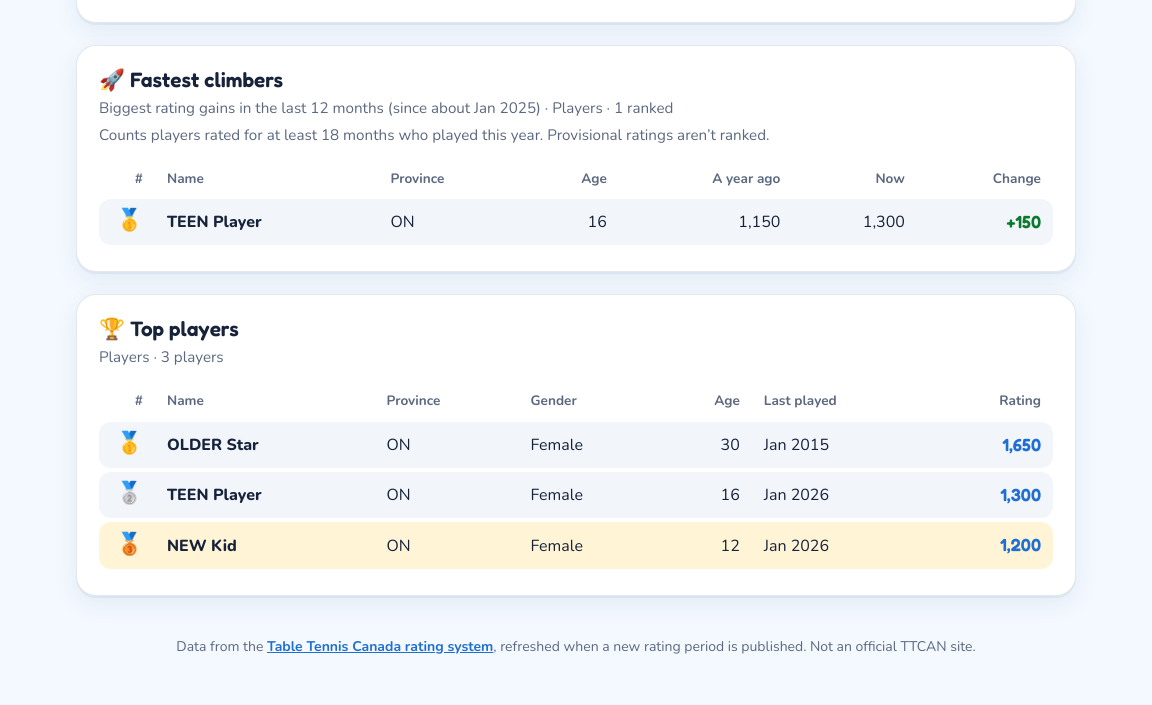
it: app › shows players who grew like you and how they kept going
(page scrolled)
// older players don't get the section
Click the button "TEEN Player" below "Top players": (214, 495) [167,483,262,507]
(page scrolled)
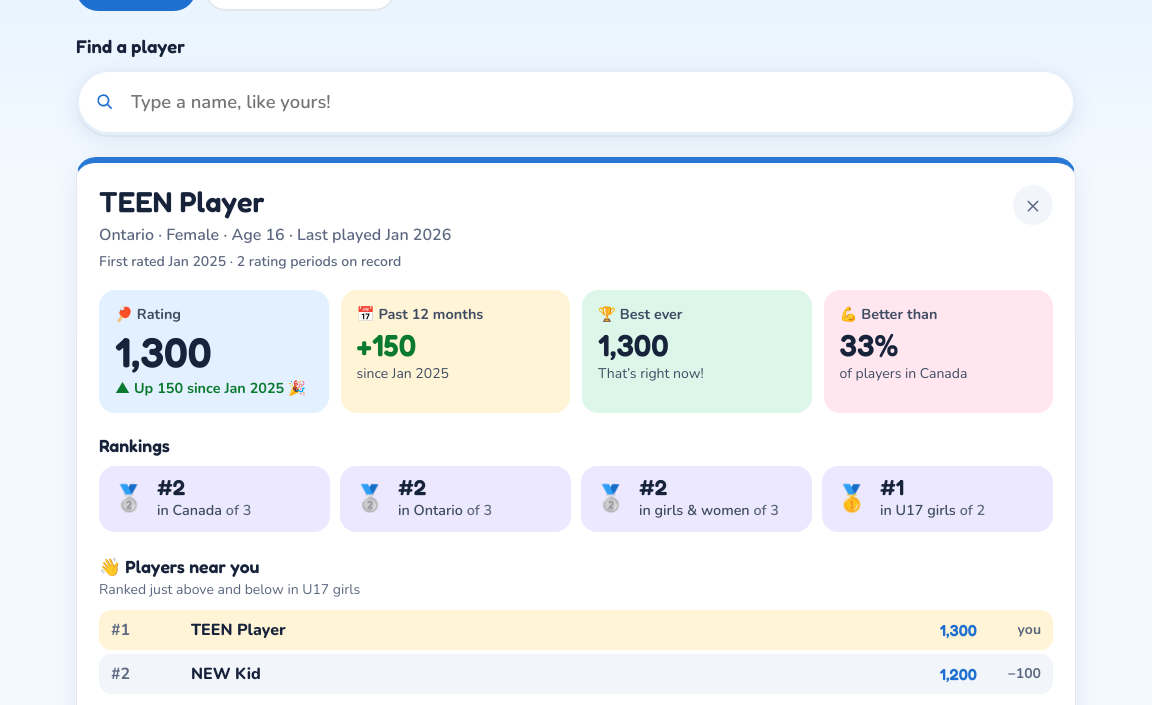
Expected: the text "+150" is shown, [356,326,416,363]
